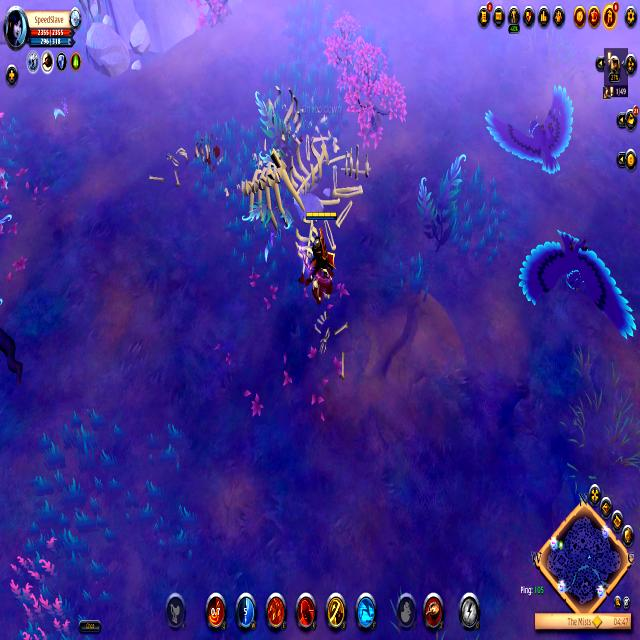red: (298, 201, 342, 316)
